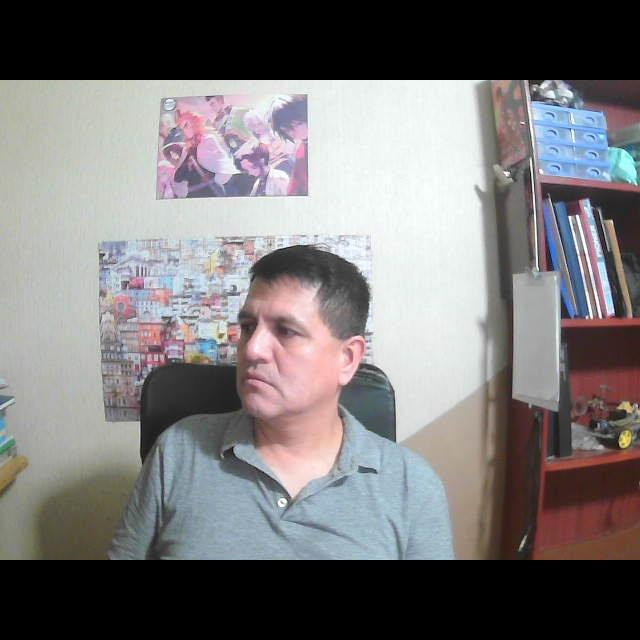cesar: (219, 232, 383, 444)
